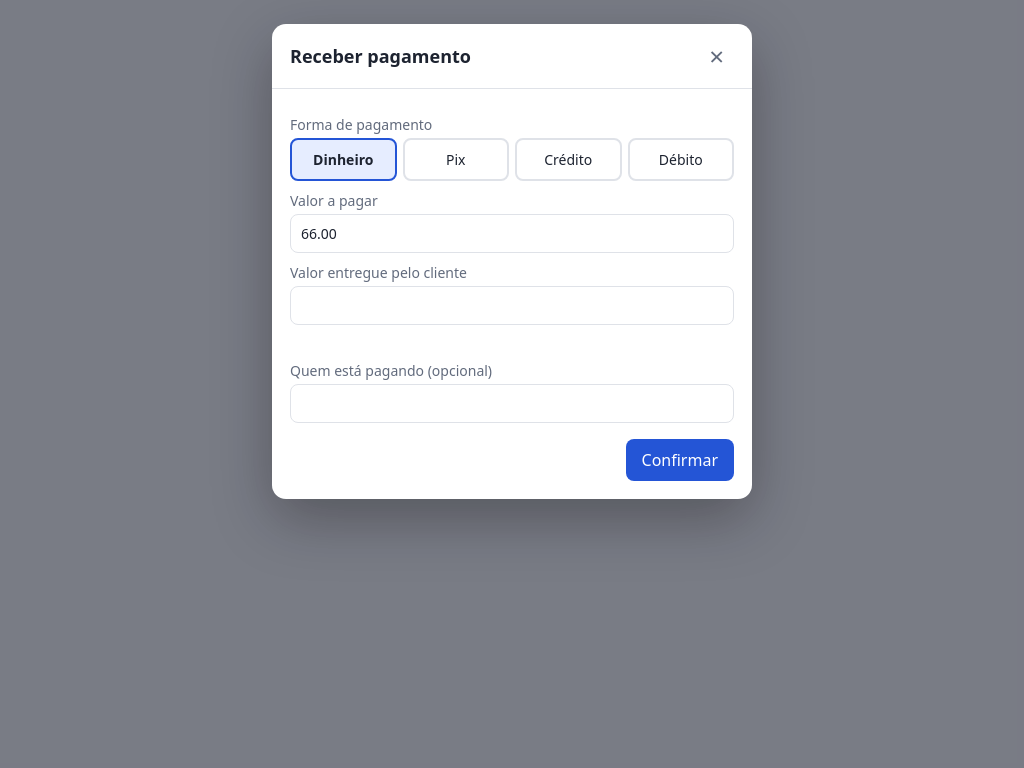
Test case: PagamentoModal › se a API recusar, mostra o erro e mantém o modal aberto
Click the button "Confirmar": click(680, 460) [626,439,734,481]
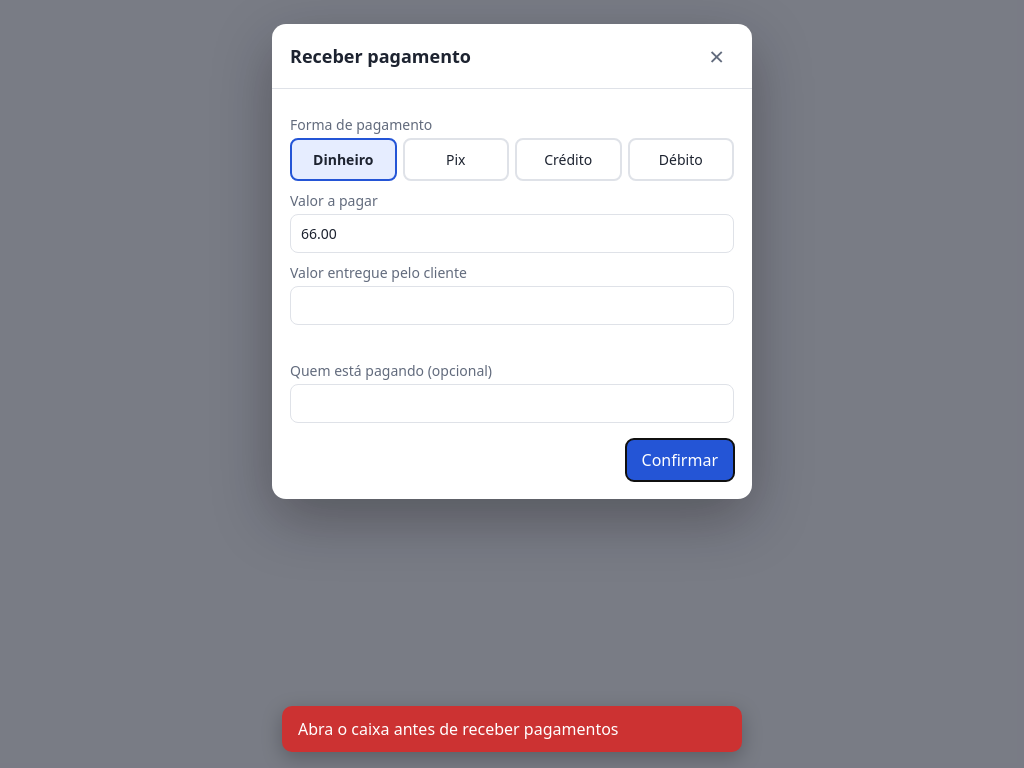
Expected: the text "Abra o caixa antes de receber pagamentos" is shown, [282,706,742,752]
